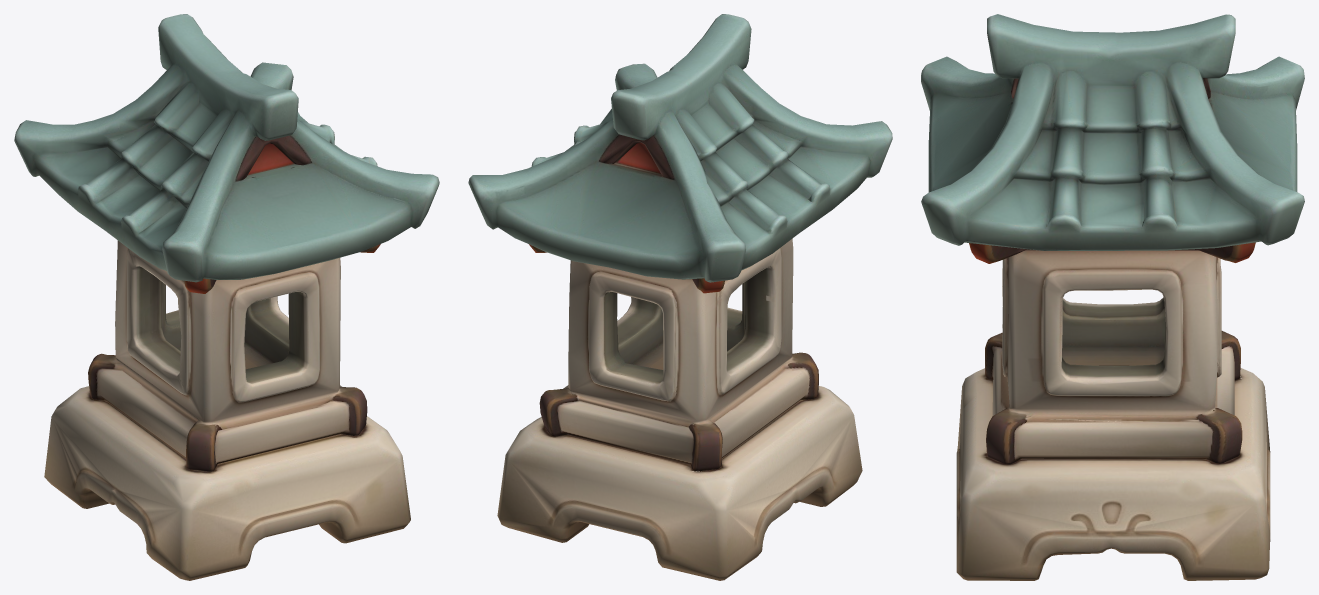
The model's file is tripo_convert_295cd136-a12d-416c-938f-352123e557c7.fbx.
3 views of the same model, side by side, from view 1: azimuth 30°, elevation 25°; view 2: azimuth 150°, elevation 25°; view 3: azimuth 270°, elevation 25° (orthographic). The views are drawn at different scales.
Visible parts, largest first — view 1: tripo_node_295cd136; view 2: tripo_node_295cd136; view 3: tripo_node_295cd136.
Boxes of the visible parts, x1,y1,x2,y2 form: tripo_node_295cd136: (14, 14, 439, 580); tripo_node_295cd136: (468, 14, 892, 580); tripo_node_295cd136: (921, 14, 1304, 580).
Size of the model in its own units: 0.6387 by 0.998 by 0.6934.
Materials: 1 (1 with a texture image).
